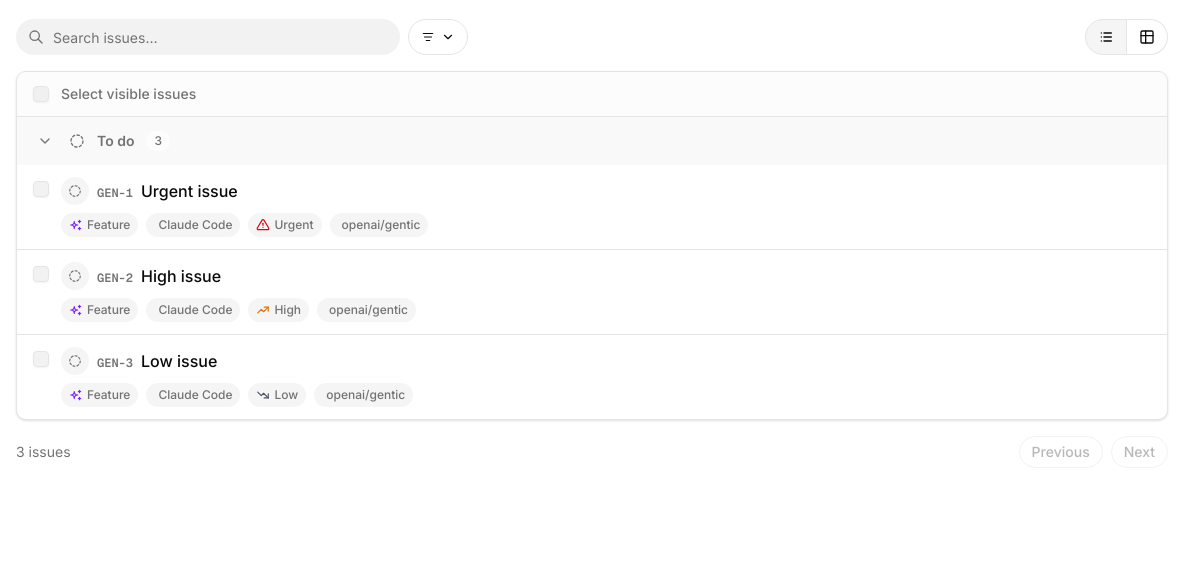
Test case: IssuesView priority triage › filters by multiple priorities and clears active priority filters
This screenshot has width=1185, height=570.
Click the button named "Filters".
click(438, 37)  # box 408,19 -> 468,55
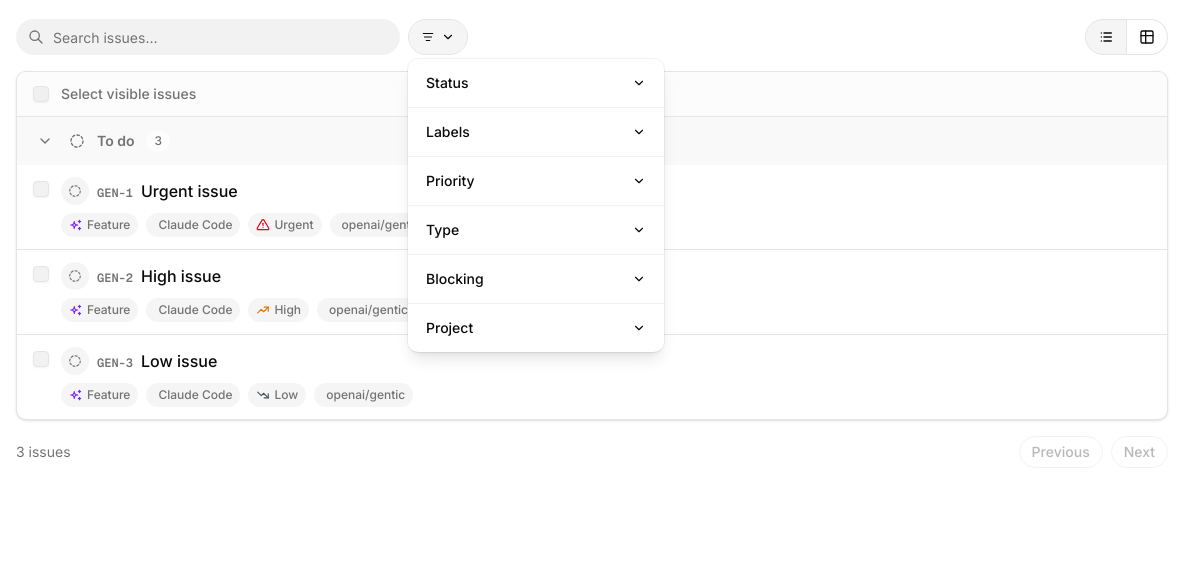
Click the menu item "Priority".
click(450, 180)  # box 426,172 -> 646,189
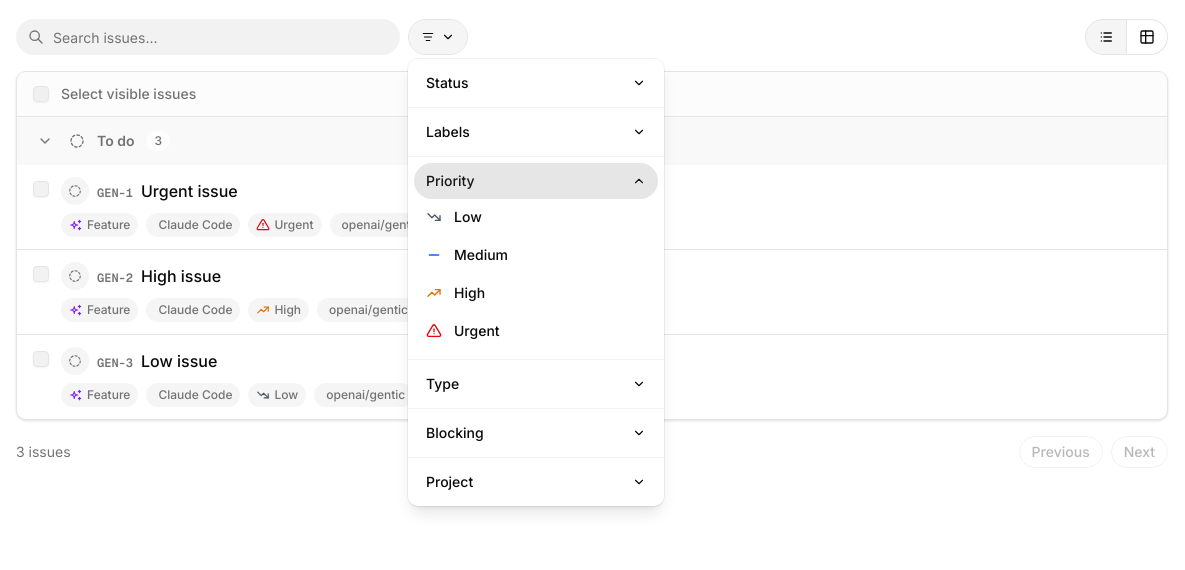
Click the menu item "Urgent".
click(463, 330)  # box 426,322 -> 500,339
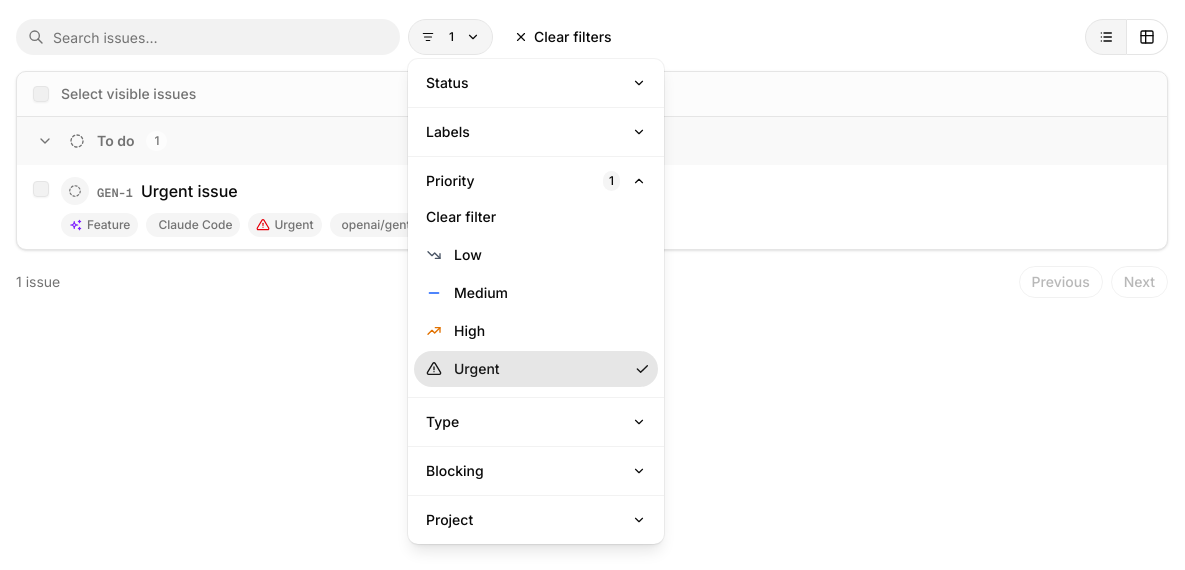
Click the menu item "High".
click(456, 330)  # box 426,322 -> 485,339
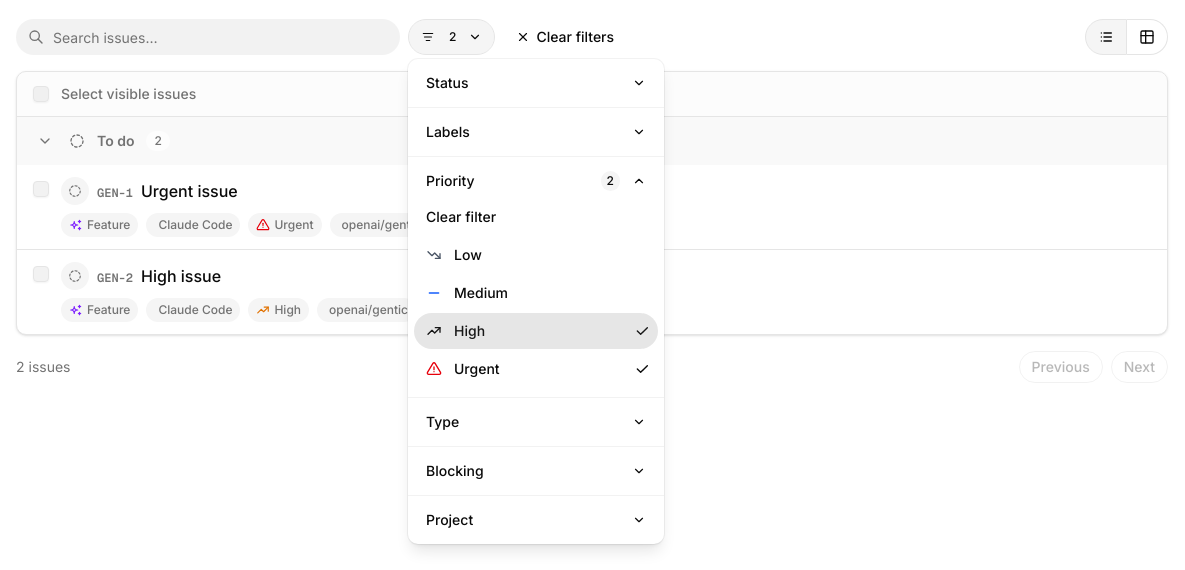
Expected: the text "Urgent issue" is shown, 141,179 -> 238,203
Result: the text "High issue" is shown at 141,264 -> 221,288
Click the menu item "Clear filter".
click(461, 216)  # box 426,208 -> 496,225
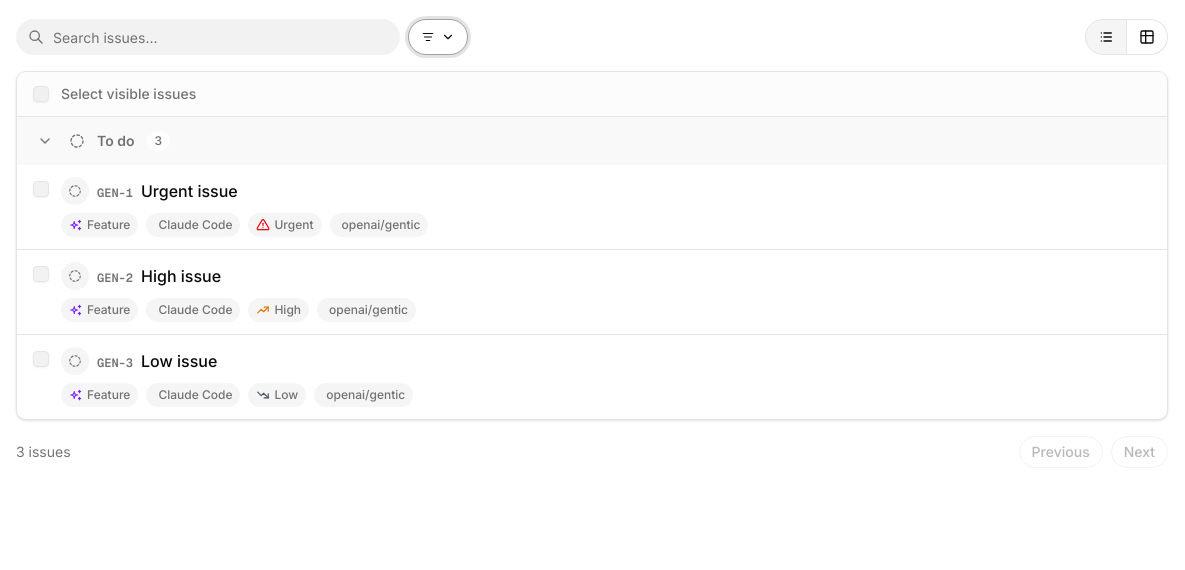
Result: the text "Low issue" is shown at 141,349 -> 217,373
